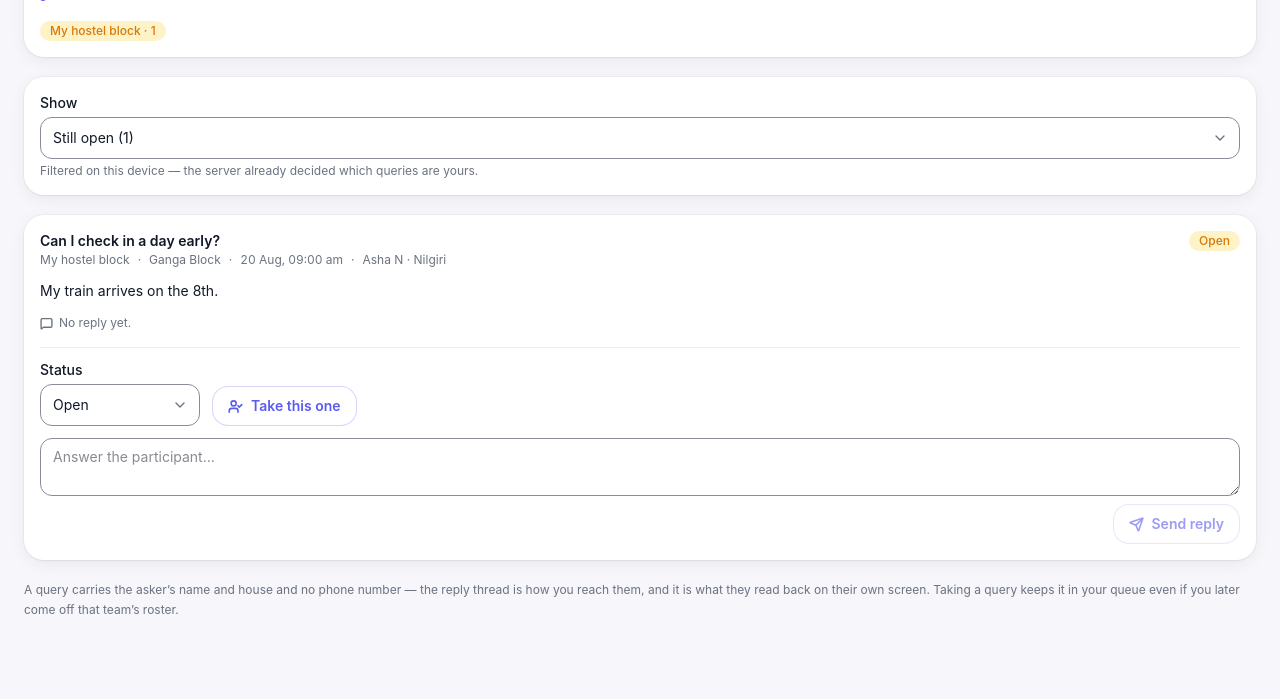
it: StaffSupportPage › the questions tab › reports a failed update without pretending it saved
The image size is (1280, 699).
(page scrolled)
Check: the heading "Can I check in a day early?" is shown, box [40,232,220,249]
Click the button "Take this one": (284, 406) [212,386,356,426]
(page scrolled)
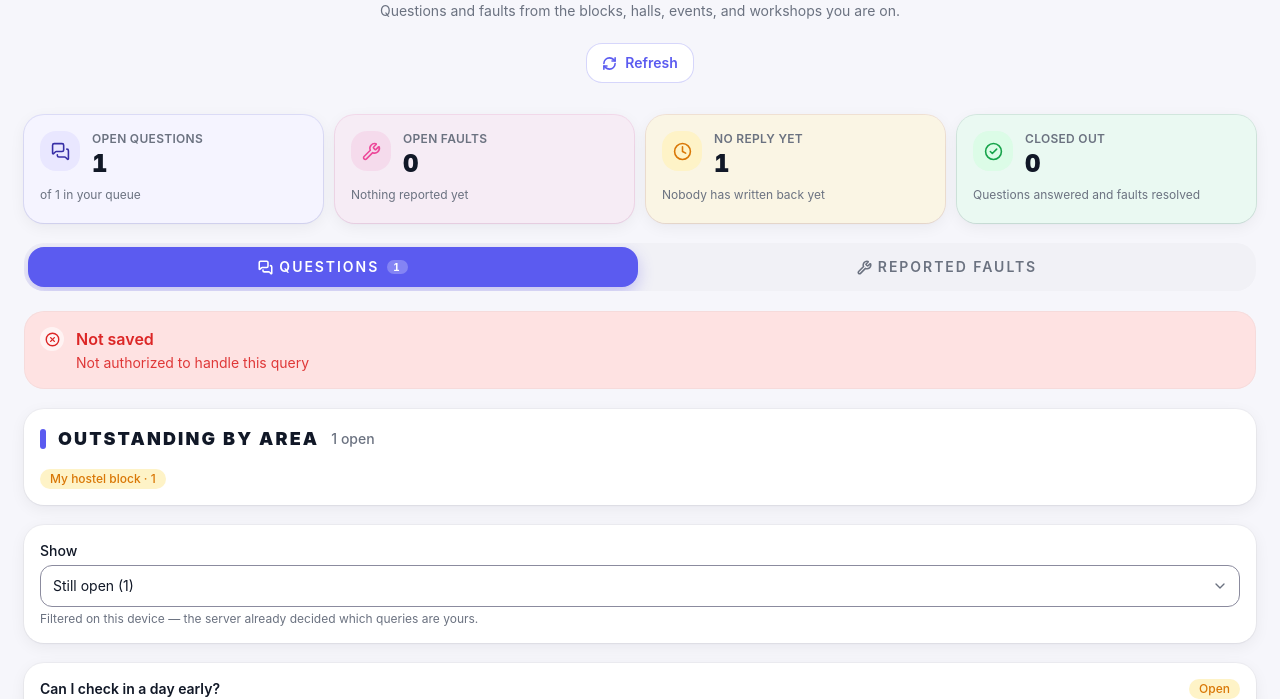
Check: the text "Not saved" is shown, box [76,329,154,349]
